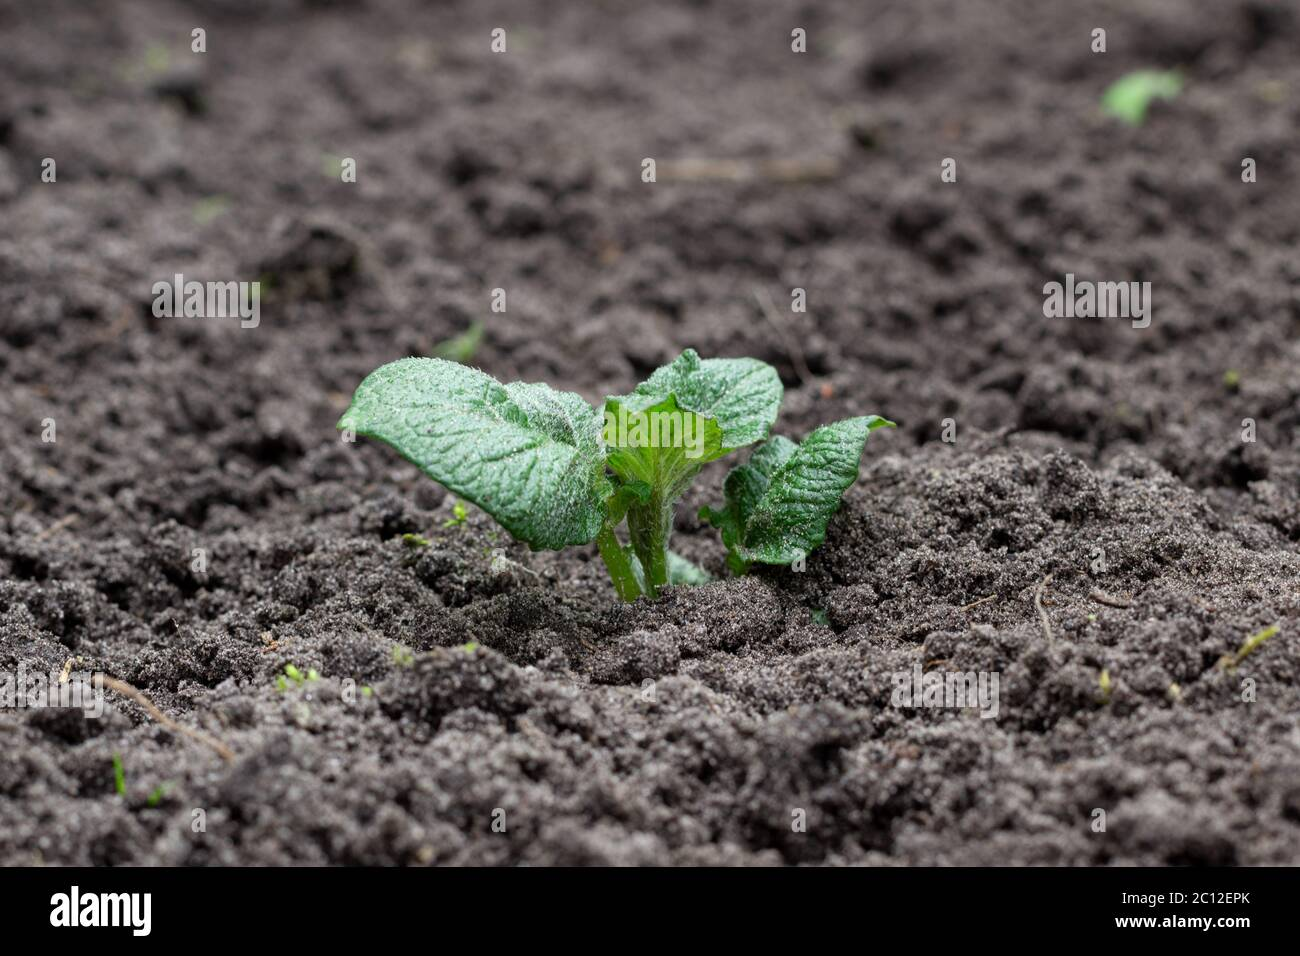potato: (316, 340, 902, 616)
